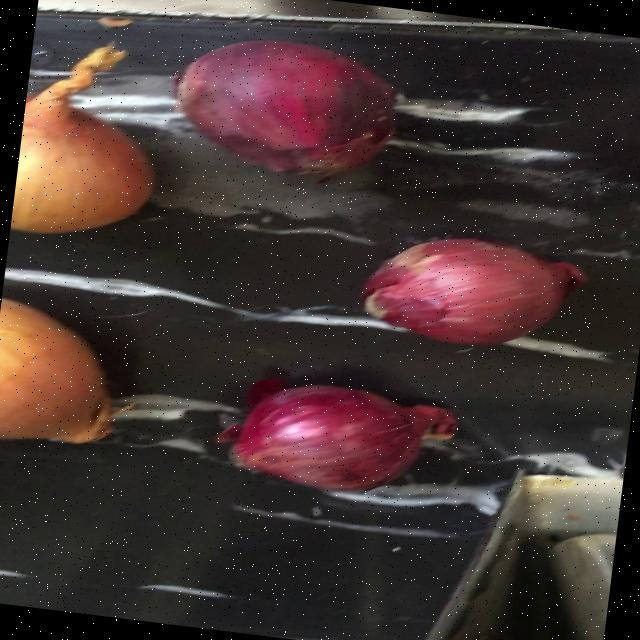Onion: (176, 38, 396, 175), (9, 42, 152, 231), (216, 379, 457, 490), (361, 237, 588, 344), (0, 297, 110, 441)
